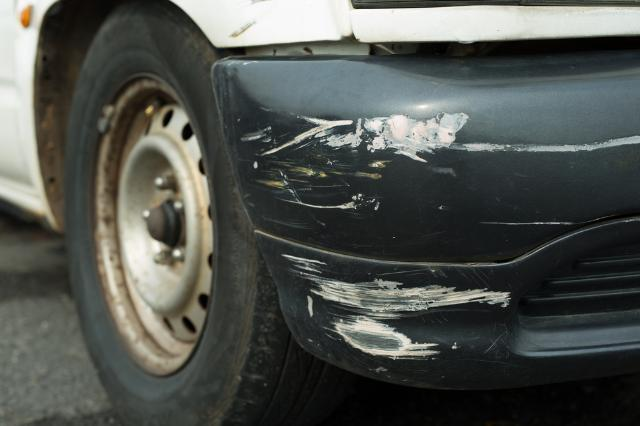scratch: (231, 106, 640, 210), (277, 245, 516, 368)
